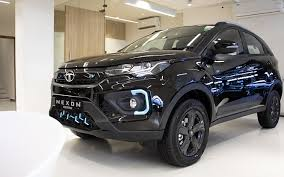Tata Nexon: (50, 20, 283, 167)
